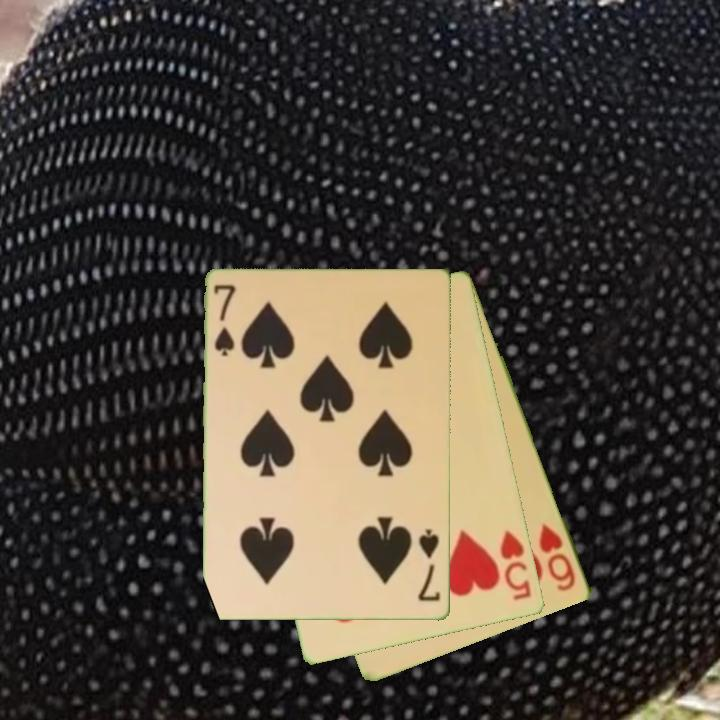5h: (497, 527, 535, 603)
6h: (536, 520, 579, 595)
7s: (415, 526, 443, 605), (211, 281, 239, 360)
